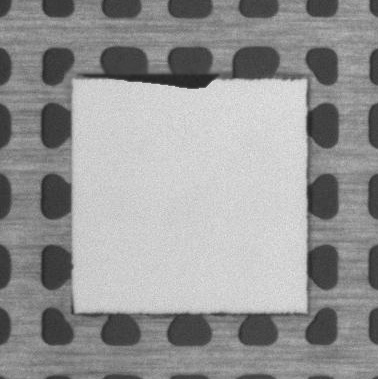DIE_BROKEN: (74, 70, 221, 89)
